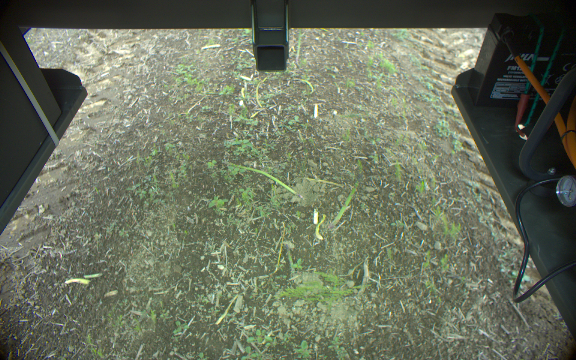aspa: (224, 162, 302, 198), (328, 176, 364, 227), (294, 27, 303, 65)
